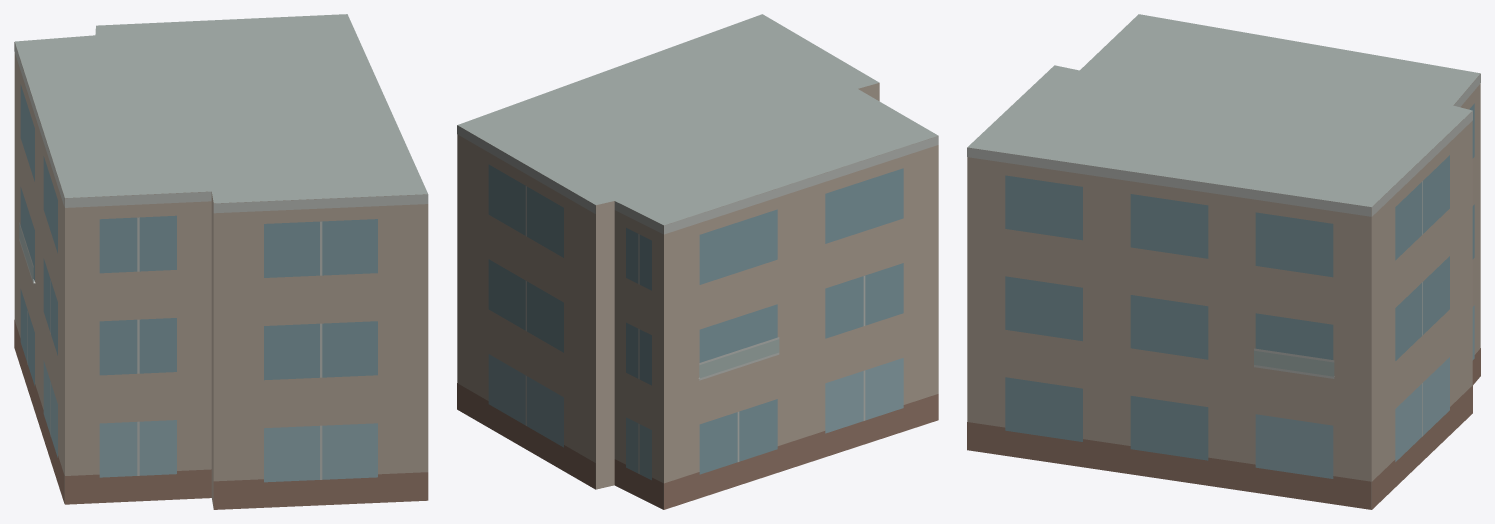
Rendered from survey-upis-32625441.glb.
3 views of the same model, side by side, from view 1: azimuth 30°, elevation 25°; view 2: azimuth 150°, elevation 25°; view 3: azimuth 270°, elevation 25° (orthographic). The views are drawn at different scales.
Visible parts, largest first — view 1: survey-upis-32625441.tmp; view 2: survey-upis-32625441.tmp; view 3: survey-upis-32625441.tmp.
Boxes of the visible parts, bbox=[...] form: survey-upis-32625441.tmp: bbox=[14, 14, 428, 509]; survey-upis-32625441.tmp: bbox=[457, 14, 938, 509]; survey-upis-32625441.tmp: bbox=[967, 14, 1480, 509].
Bounding box in the file's own units: 10.41 × 7.6 × 11.7.
